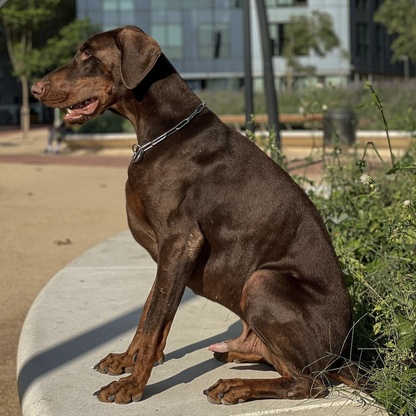doberman: (27, 24, 368, 416)
